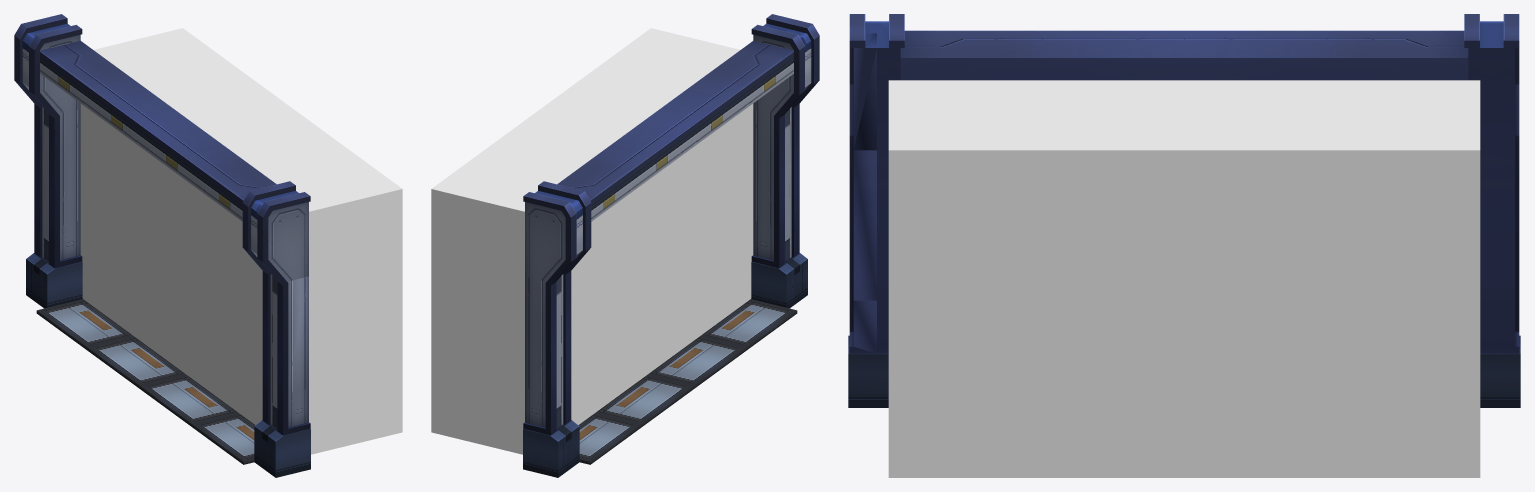
File: my_carrier_01_wallcc_03.glb
3 views of the same model, side by side, from view 1: azimuth 30°, elevation 25°; view 2: azimuth 150°, elevation 25°; view 3: azimuth 270°, elevation 25° (orthographic). The views are drawn at different scales.
Parts seen in each view (by area): view 1: my_carrier_01_wallcc_03.001, my_carrier_01_wallcc_03_cover, my_carrier_01_wallcc_03_hole; view 2: my_carrier_01_wallcc_03.001, my_carrier_01_wallcc_03_cover, my_carrier_01_wallcc_03_hole; view 3: my_carrier_01_wallcc_03_cover, my_carrier_01_wallcc_03.001.
Part boxes in pixels (x1=…): my_carrier_01_wallcc_03.001: x1=14, y1=14, x2=310, y2=477; my_carrier_01_wallcc_03_cover: x1=94, y1=28, x2=402, y2=454; my_carrier_01_wallcc_03_hole: x1=80, y1=103, x2=262, y2=424; my_carrier_01_wallcc_03.001: x1=523, y1=14, x2=819, y2=477; my_carrier_01_wallcc_03_cover: x1=431, y1=28, x2=739, y2=454; my_carrier_01_wallcc_03_hole: x1=571, y1=103, x2=753, y2=424; my_carrier_01_wallcc_03_cover: x1=888, y1=80, x2=1480, y2=477; my_carrier_01_wallcc_03.001: x1=848, y1=14, x2=1520, y2=407.
Bounding box in the file's own units: 0.0191 × 0.0323 × 0.0536.
5 materials, 3 textured.
